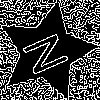N: (21, 26, 79, 79)
